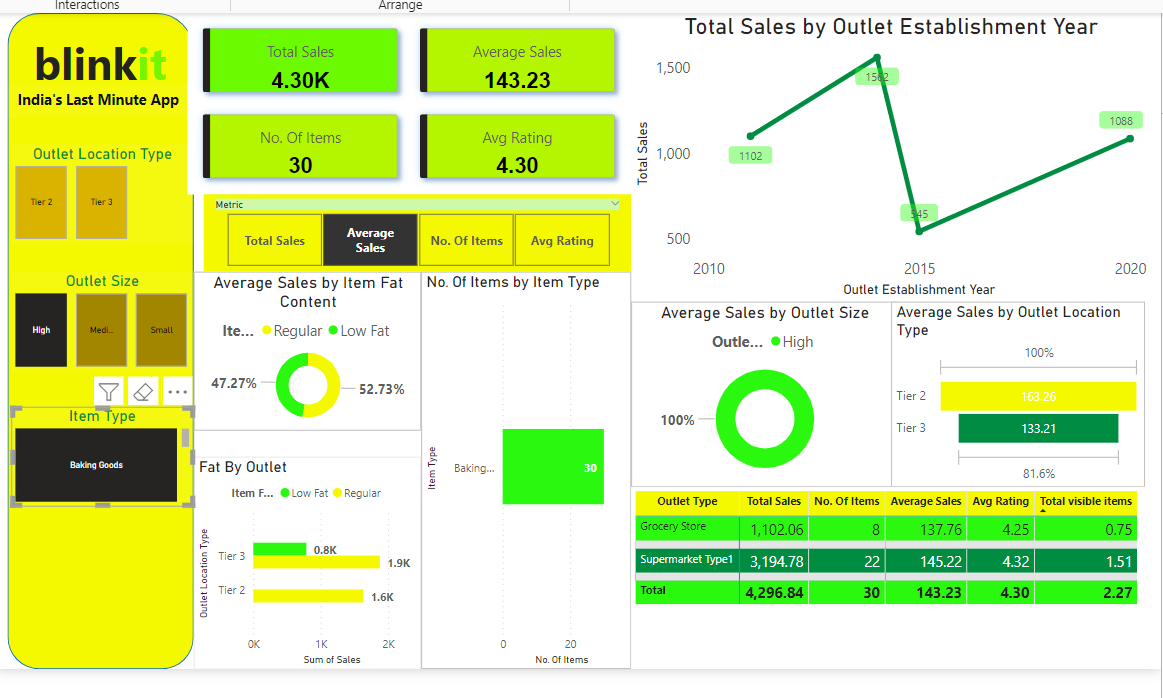

What the dashboard file says about the page in this screenshot:
{"tool":"powerbi","page":{"name":"Page 1","canvas":[1280,720],"ordinal":0},"visuals":[{"type":"shape","box":[13.7,0,204.5,720.4],"z":0},{"type":"textbox","box":[30.2,16.5,170.2,74.1],"z":1000},{"type":"textbox","box":[11,78.2,204.5,37],"z":2000},{"type":"cardVisual","fields":{"Data":["BlinkIT Grocery Data.Total Sales","BlinkIT Grocery Data.Average Sales","BlinkIT Grocery Data.No. Of Items","BlinkIT Grocery Data.Avg Rating"]},"box":[211.3,0,487.1,199],"z":3000},{"type":"donutChart","fields":{"Y":["BlinkIT Grocery Data.Average Sales"],"Category":["BlinkIT Grocery Data.Item Fat Content"]},"box":[218.2,284,249.7,174.3],"z":4000},{"type":"slicer","fields":{"Values":["Metric.Metric"]},"box":[229.2,199,469.3,85.1],"z":5000},{"type":"clusteredBarChart","title":"Fat By Outlet","fields":{"Y":["Sum(BlinkIT Grocery Data.Sales)"],"Category":["BlinkIT Grocery Data.Outlet Location Type"],"Series":["BlinkIT Grocery Data.Item Fat Content"]},"box":[218.2,487.1,249.7,233.3],"z":6000},{"type":"clusteredBarChart","fields":{"Y":["BlinkIT Grocery Data.No. Of Items"],"Category":["BlinkIT Grocery Data.Item Type"]},"box":[467.9,284,230.5,436.4],"z":7000},{"type":"lineChart","fields":{"Y":["BlinkIT Grocery Data.Total Sales"],"Category":["BlinkIT Grocery Data.Outlet Establishment Year"]},"box":[698.5,0,570.8,317],"z":8000},{"type":"donutChart","fields":{"Y":["BlinkIT Grocery Data.Average Sales"],"Category":["BlinkIT Grocery Data.Outlet Size"]},"box":[698.5,317,292.3,203.1],"z":9000},{"type":"funnel","fields":{"Y":["BlinkIT Grocery Data.Average Sales"],"Category":["BlinkIT Grocery Data.Outlet Location Type"]},"box":[983.9,317,278.6,203.1],"z":10000},{"type":"pivotTable","fields":{"Values":["BlinkIT Grocery Data.Total Sales","BlinkIT Grocery Data.No. Of Items","BlinkIT Grocery Data.Average Sales","BlinkIT Grocery Data.Avg Rating","Sum(BlinkIT Grocery Data.Item Visibility)"],"Rows":["BlinkIT Grocery Data.Outlet Type"]},"box":[698.5,520.1,581.8,200.3],"z":11000},{"type":"advancedSlicerVisual","fields":{"Values":["BlinkIT Grocery Data.Outlet Size"]},"box":[17.8,284,200.3,109.8],"z":12000},{"type":"advancedSlicerVisual","fields":{"Values":["BlinkIT Grocery Data.Outlet Location Type"]},"box":[17.8,144.1,200.3,109.8],"z":13000},{"type":"advancedSlicerVisual","fields":{"Values":["BlinkIT Grocery Data.Item Type"]},"box":[17.8,432.2,200.3,109.8],"z":13001}]}

Visuals, with their boxes on the page's 1280x720 design canvas (x1, y1, x2, y2). These are canvas units, not pixel positions in the 1163x698 screenshot, which may show the page scaled, cropped or inside an application window:
shape: locate(14, 0, 218, 720)
textbox: locate(30, 16, 200, 91)
textbox: locate(11, 78, 216, 115)
cardVisual - BlinkIT Grocery Data.Total Sales x BlinkIT Grocery Data.Average Sales: locate(211, 0, 698, 199)
donutChart - BlinkIT Grocery Data.Average Sales x BlinkIT Grocery Data.Item Fat Content: locate(218, 284, 468, 458)
slicer - Metric.Metric: locate(229, 199, 698, 284)
"Fat By Outlet" clusteredBarChart: locate(218, 487, 468, 720)
clusteredBarChart - BlinkIT Grocery Data.No. Of Items x BlinkIT Grocery Data.Item Type: locate(468, 284, 698, 720)
lineChart - BlinkIT Grocery Data.Total Sales x BlinkIT Grocery Data.Outlet Establishment Year: locate(698, 0, 1269, 317)
donutChart - BlinkIT Grocery Data.Average Sales x BlinkIT Grocery Data.Outlet Size: locate(698, 317, 991, 520)
funnel - BlinkIT Grocery Data.Average Sales x BlinkIT Grocery Data.Outlet Location Type: locate(984, 317, 1262, 520)
pivotTable - BlinkIT Grocery Data.Total Sales x BlinkIT Grocery Data.No. Of Items: locate(698, 520, 1280, 720)
advancedSlicerVisual - BlinkIT Grocery Data.Outlet Size: locate(18, 284, 218, 394)
advancedSlicerVisual - BlinkIT Grocery Data.Outlet Location Type: locate(18, 144, 218, 254)
advancedSlicerVisual - BlinkIT Grocery Data.Item Type: locate(18, 432, 218, 542)
